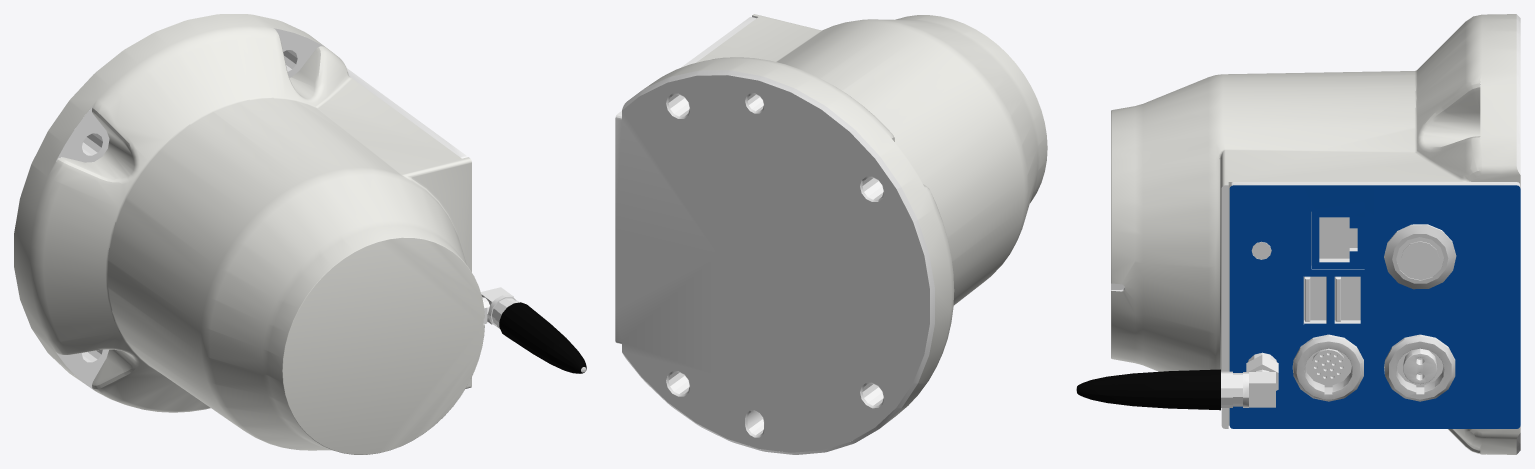
3 views of the same model, side by side, from view 1: azimuth 30°, elevation 25°; view 2: azimuth 150°, elevation 25°; view 3: azimuth 270°, elevation 25° (orthographic). The views are drawn at different scales.
Visible parts, largest first — view 1: null; view 2: null; view 3: null.
Boxes of the visible parts, x1,y1,x2,y2 form: null: (14,14,586,454); null: (615,14,1047,454); null: (1076,14,1520,454).
Bounding box in the file's own units: 0.1161 × 0.1099 × 0.1107.
